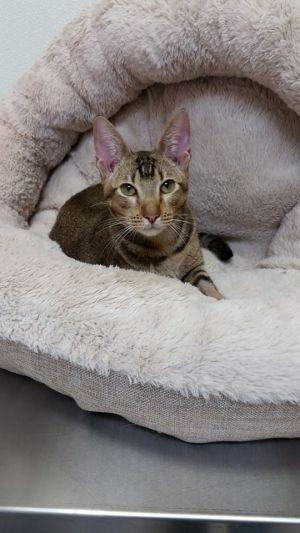bengal: (87, 109, 209, 246)
